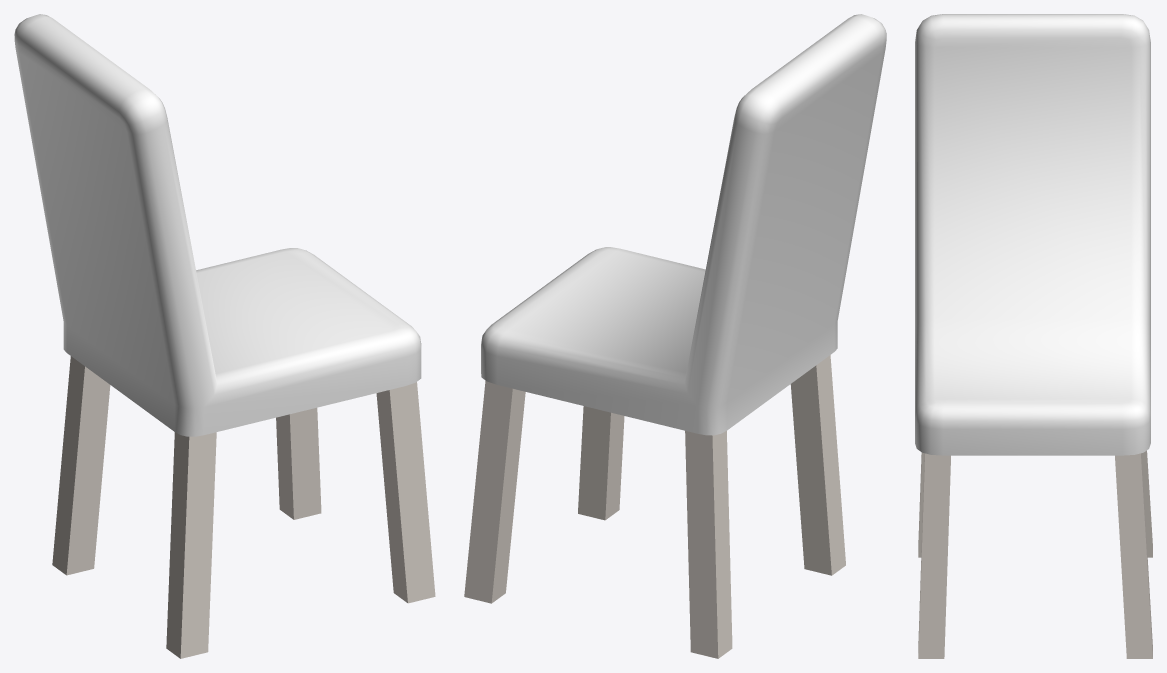
Rendered from Chair.fbx.
The picture shows the model from 3 angles, left to right: view 1: azimuth 30°, elevation 25°; view 2: azimuth 150°, elevation 25°; view 3: azimuth 270°, elevation 25°; orthographic projection. The views are drawn at different scales.
Visible parts, largest first — view 1: Chair; view 2: Chair; view 3: Chair.
Part boxes in pixels (<box>): Chair: <box>14,14,435,658</box>; Chair: <box>464,14,886,658</box>; Chair: <box>915,14,1152,658</box>.
Bounding box in the file's own units: 158 × 283 × 118.
2 materials, 2 textured.
